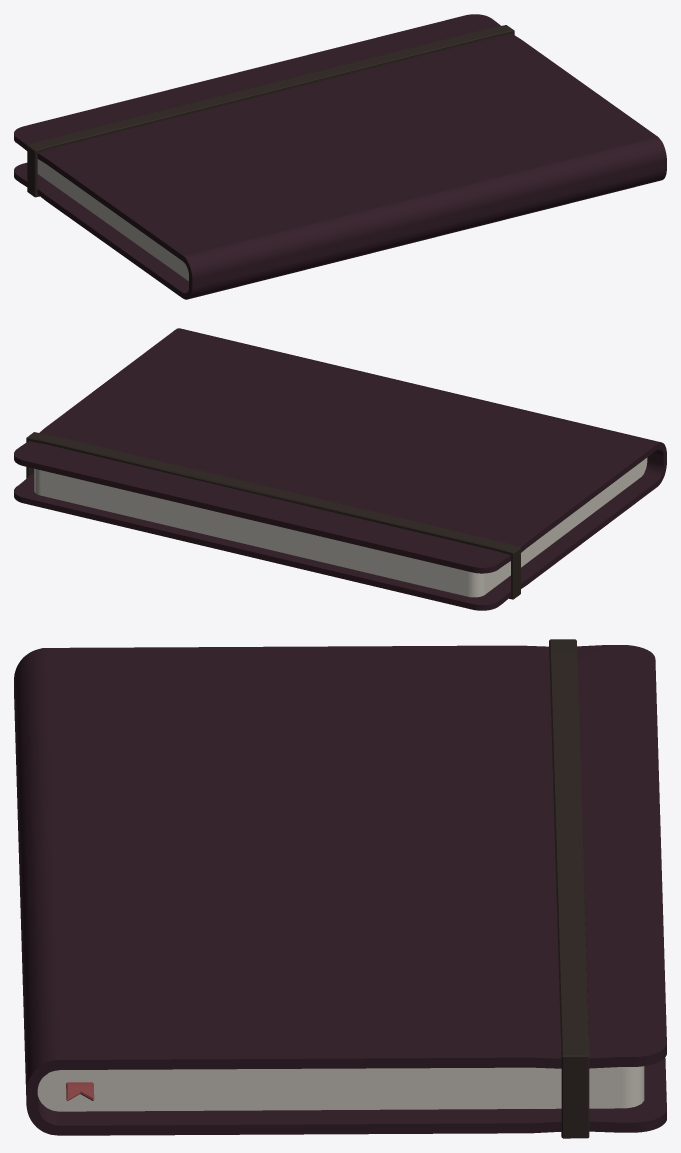
File: ergoflex-notebook.glb
3 renders of one model, top to bottom at view 1: azimuth 30°, elevation 25°; view 2: azimuth 150°, elevation 25°; view 3: azimuth 270°, elevation 25°, orthographic. The views are drawn at different scales.
Parts seen in each view (by area): view 1: Supplied notebook part 1, Supplied notebook part 3, Supplied notebook part 2; view 2: Supplied notebook part 1, Supplied notebook part 2, Supplied notebook part 3; view 3: Supplied notebook part 1, Supplied notebook part 2, Supplied notebook part 3.
Boxes of the visible parts, left/top/right/bottom form: Supplied notebook part 1: left=14, top=14, right=666, bottom=299; Supplied notebook part 3: left=27, top=25, right=514, bottom=197; Supplied notebook part 2: left=37, top=159, right=188, bottom=280; Supplied notebook part 1: left=14, top=328, right=666, bottom=610; Supplied notebook part 2: left=34, top=457, right=647, bottom=597; Supplied notebook part 3: left=26, top=432, right=520, bottom=599; Supplied notebook part 1: left=14, top=645, right=666, bottom=1135; Supplied notebook part 2: left=37, top=1066, right=644, bottom=1111; Supplied notebook part 3: left=549, top=639, right=589, bottom=1138.
Size of the model in its own units: 0.21 by 0.0202 by 0.1388.
